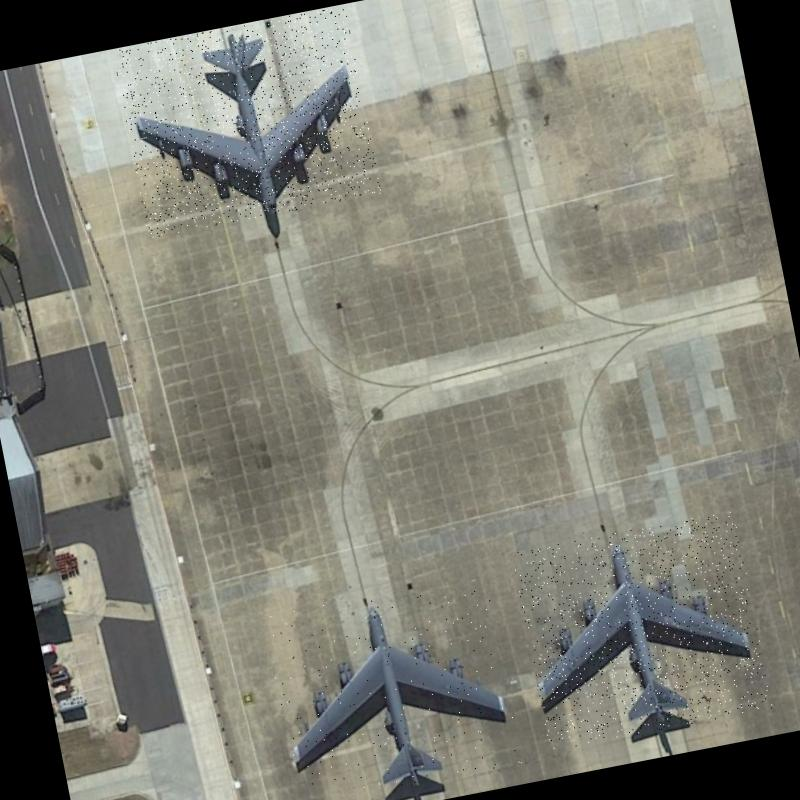A8: (112, 4, 381, 238), (512, 509, 772, 751), (262, 573, 521, 800)
